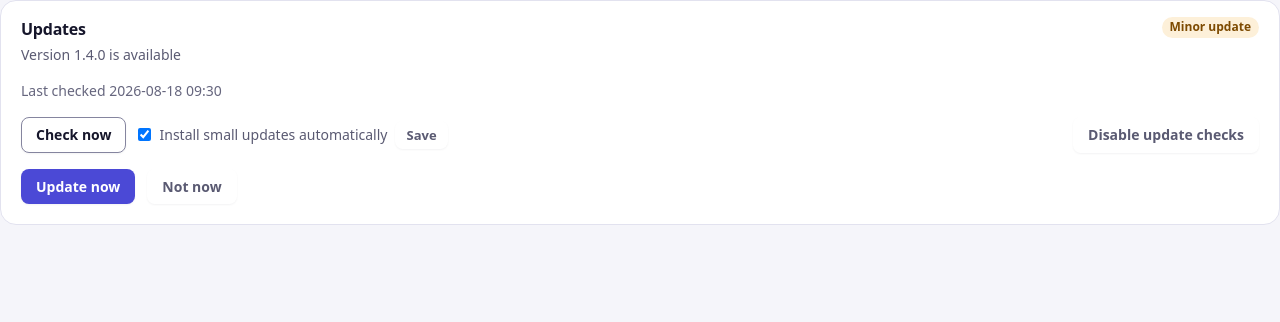
Test: MUST-9.8: the two apply outcomes render their exact sentences › the accepted-unconfirmed sentence is shown verbatim
Click the button "Update now": (78, 186) [21,168,135,204]
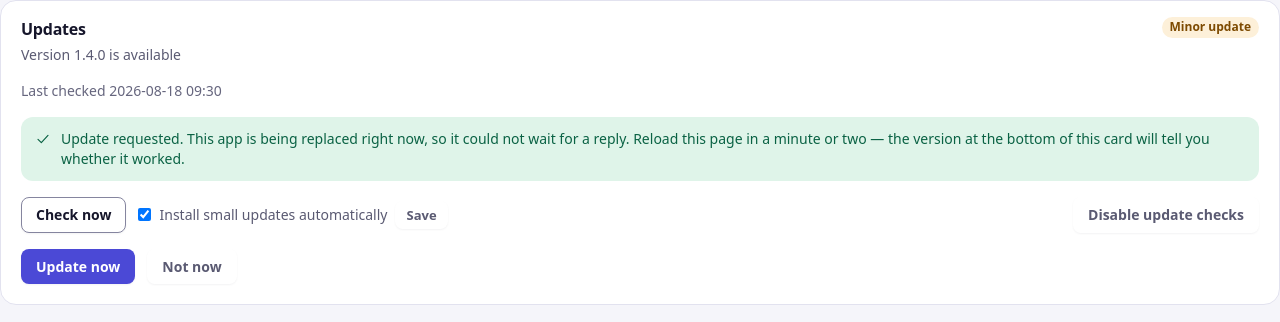
Result: the text "Update requested. This app is being replaced right now, so it could not wait for a reply. Reload this page in a minute o" is shown at [61,129,1210,168]
